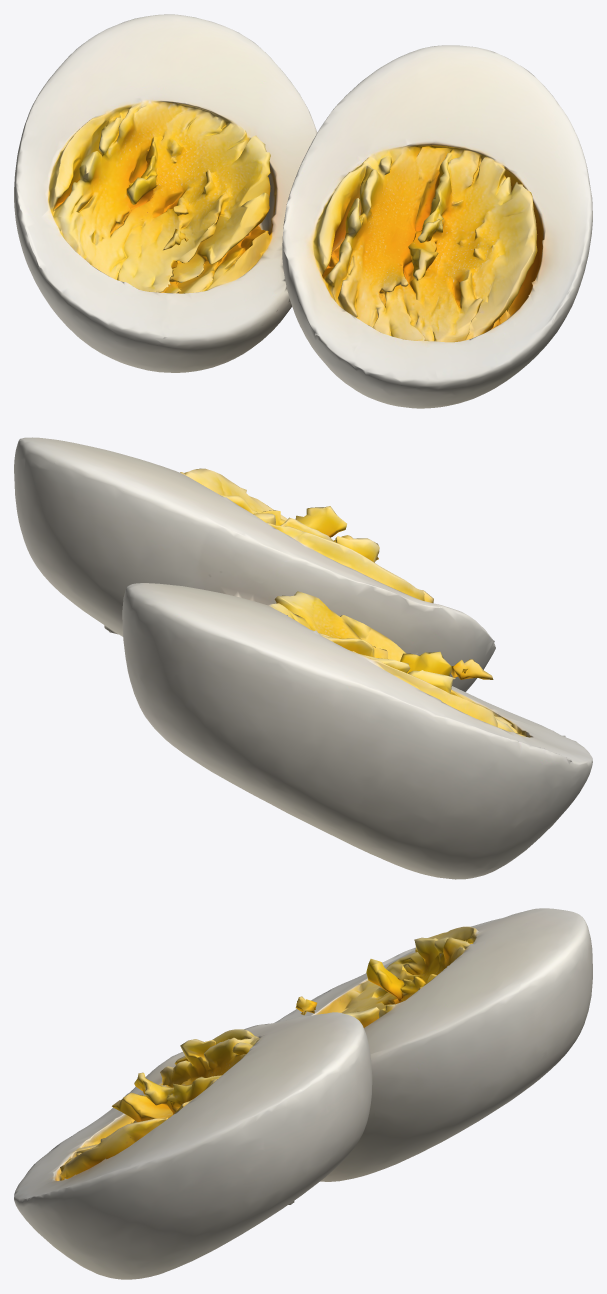
Rendered from HuevoHervidoPicado.glb.
3 views of the same model, one above another, from view 1: azimuth 30°, elevation 25°; view 2: azimuth 150°, elevation 25°; view 3: azimuth 270°, elevation 25° (orthographic). The views are drawn at different scales.
Parts seen in each view (by area): view 1: tripo_node_9465f007-e727-435a-a2d9-5e1a53f889af; view 2: tripo_node_9465f007-e727-435a-a2d9-5e1a53f889af; view 3: tripo_node_9465f007-e727-435a-a2d9-5e1a53f889af.
Part boxes in pixels (left/top/right/bottom): tripo_node_9465f007-e727-435a-a2d9-5e1a53f889af: left=14, top=14, right=592, bottom=408; tripo_node_9465f007-e727-435a-a2d9-5e1a53f889af: left=14, top=437, right=592, bottom=879; tripo_node_9465f007-e727-435a-a2d9-5e1a53f889af: left=14, top=908, right=592, bottom=1279.
Bounding box in the file's own units: 1 × 0.522 × 0.9679.
1 material, 1 textured.
